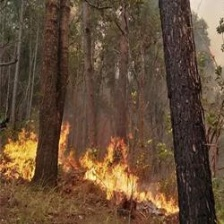fire: (8, 129, 177, 218)
